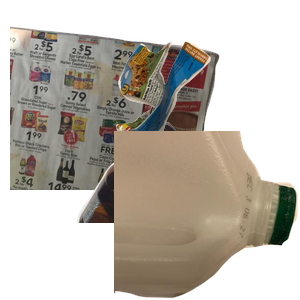glass: (74, 120, 244, 300)
paper: (10, 21, 222, 201)
plastic: (114, 131, 300, 300)
trash: (114, 39, 300, 188)
